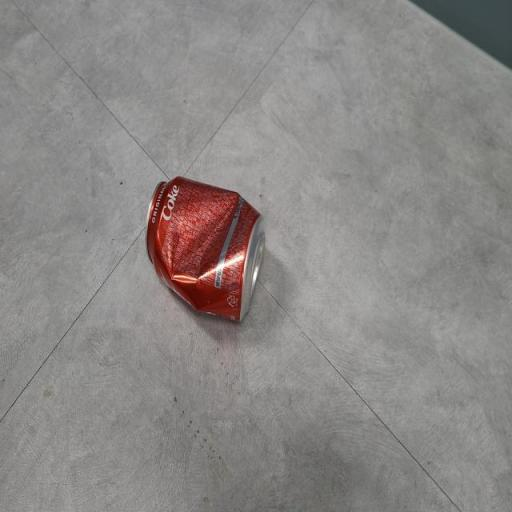metal: (139, 158, 283, 342)
